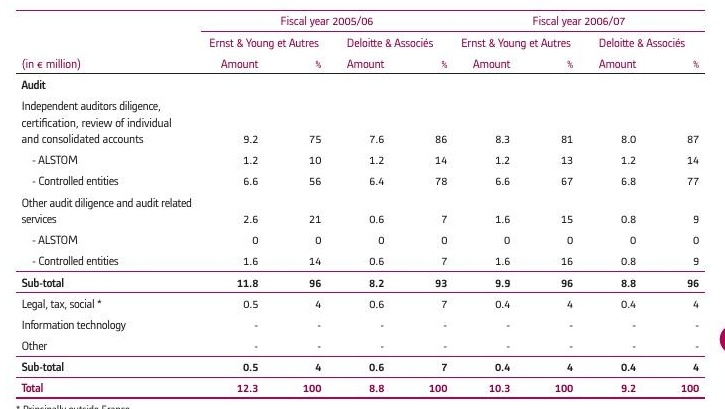table: (0, 0, 725, 409)
